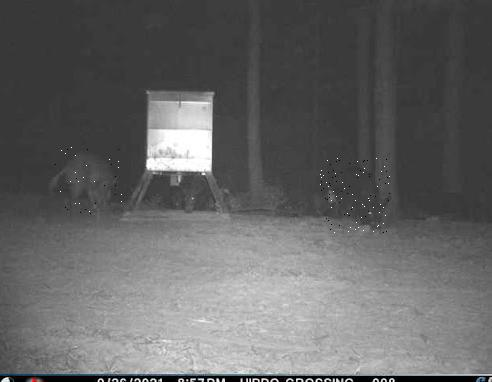Hog: (320, 158, 390, 233), (55, 146, 123, 216)
